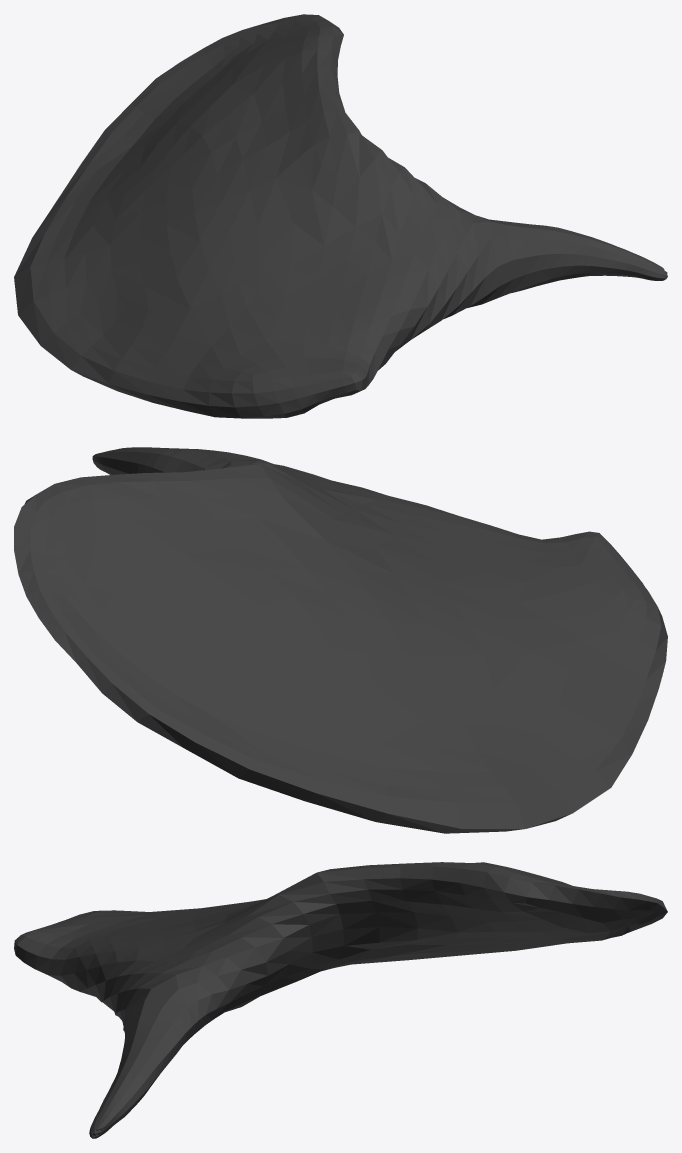
The model's file is ExternObturator.glb.
3 renders of one model, top to bottom at view 1: azimuth 30°, elevation 25°; view 2: azimuth 150°, elevation 25°; view 3: azimuth 270°, elevation 25°, orthographic. The views are drawn at different scales.
Visible parts, largest first — view 1: ExternObturator; view 2: ExternObturator; view 3: ExternObturator.
Part boxes in pixels (x1=…): ExternObturator: x1=14, y1=14, x2=667, y2=418; ExternObturator: x1=14, y1=447, x2=667, y2=833; ExternObturator: x1=14, y1=862, x2=667, y2=1138.
Size of the model in its own units: 2.56 by 1.05 by 2.57.
1 material, 1 textured.
